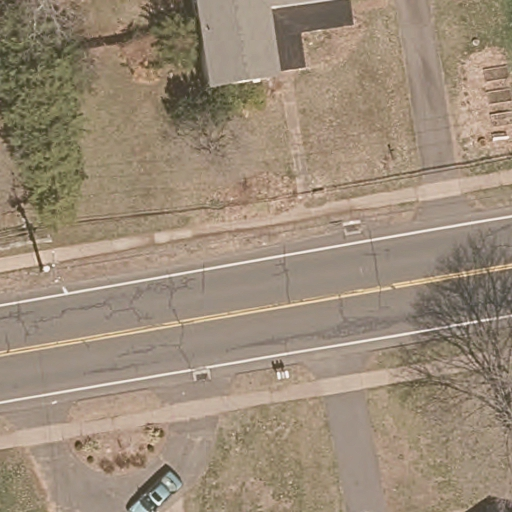DT: (40, 250, 63, 285)
